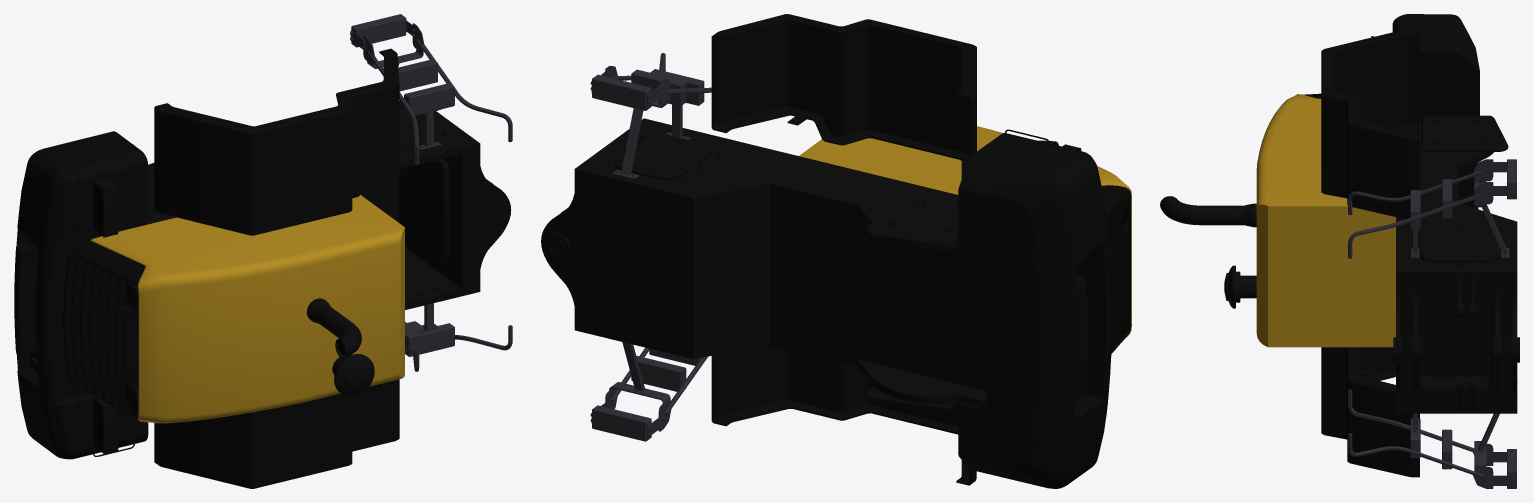
File: rear_frame.obj
3 views of the same model, side by side, from view 1: azimuth 30°, elevation 25°; view 2: azimuth 150°, elevation 25°; view 3: azimuth 270°, elevation 25° (orthographic). The views are drawn at different scales.
Parts seen in each view (by area): view 1: RearFrame_0052, RearFrame_0015, RearFrame_0014, RearFrame_0049, RearFrame_0053, RearFrame_0044, RearFrame_0018, RearFrame_0048, RearFrame_0017, RearFrame_0019, RearFrame_0027, RearFrame_0050 (+11 smaller); view 2: RearFrame_0018, RearFrame_0049, RearFrame_0015, RearFrame_0019, RearFrame_0014, RearFrame_0017, RearFrame_0048, RearFrame_0016, RearFrame_0027, RearFrame_0053, RearFrame_0050, RearFrame_0028 (+3 smaller); view 3: RearFrame_0014, RearFrame_0051, RearFrame_0017, RearFrame_0019, RearFrame_0053, RearFrame_0026, RearFrame_0048, RearFrame_0028, RearFrame_0016, RearFrame_0050, RearFrame_0029, RearFrame_0015 (+5 smaller).
Boxes of the visible parts, bbox=[...] form: RearFrame_0052: bbox=[139, 235, 401, 423]; RearFrame_0015: bbox=[250, 84, 399, 488]; RearFrame_0014: bbox=[154, 52, 383, 487]; RearFrame_0049: bbox=[17, 144, 148, 458]; RearFrame_0053: bbox=[91, 195, 404, 423]; RearFrame_0044: bbox=[64, 255, 138, 417]; RearFrame_0018: bbox=[148, 138, 510, 309]; RearFrame_0048: bbox=[14, 146, 147, 457]; RearFrame_0017: bbox=[145, 135, 503, 296]; RearFrame_0019: bbox=[145, 101, 503, 303]; RearFrame_0027: bbox=[351, 17, 512, 371]; RearFrame_0050: bbox=[16, 131, 145, 459]; RearFrame_0018: bbox=[541, 166, 986, 410]; RearFrame_0049: bbox=[958, 130, 1106, 488]; RearFrame_0015: bbox=[711, 21, 970, 485]; RearFrame_0019: bbox=[548, 118, 986, 410]; RearFrame_0014: bbox=[713, 21, 976, 483]; RearFrame_0017: bbox=[548, 150, 958, 409]; RearFrame_0048: bbox=[958, 132, 1111, 486]; RearFrame_0016: bbox=[713, 14, 976, 483]; RearFrame_0027: bbox=[590, 61, 698, 441]; RearFrame_0053: bbox=[799, 126, 1128, 194]; RearFrame_0050: bbox=[959, 129, 1102, 488]; RearFrame_0028: bbox=[591, 53, 711, 435]; RearFrame_0014: bbox=[1322, 33, 1419, 477]; RearFrame_0051: bbox=[1256, 204, 1395, 347]; RearFrame_0017: bbox=[1393, 119, 1519, 413]; RearFrame_0019: bbox=[1393, 115, 1519, 394]; RearFrame_0053: bbox=[1259, 94, 1347, 206]; RearFrame_0026: bbox=[1348, 159, 1516, 488]; RearFrame_0048: bbox=[1395, 17, 1479, 208]; RearFrame_0028: bbox=[1348, 159, 1516, 483]; RearFrame_0016: bbox=[1321, 28, 1419, 477]; RearFrame_0050: bbox=[1395, 14, 1461, 52]; RearFrame_0029: bbox=[1170, 209, 1256, 226]; RearFrame_0015: bbox=[1321, 50, 1348, 461].
Size of the model in its own units: 3.33 by 2.44 by 2.34.
